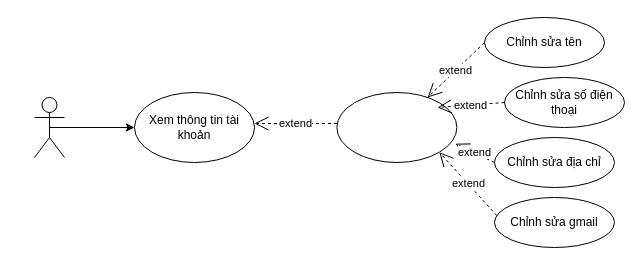
Some shapes in this 642 by 265 pixel diagram are drawn without their labels. Each missing label, with the box of its shape:
Chỉnh sửa thông tin: (336, 92, 457, 162)
Khách hàng: (34, 96, 64, 158)
